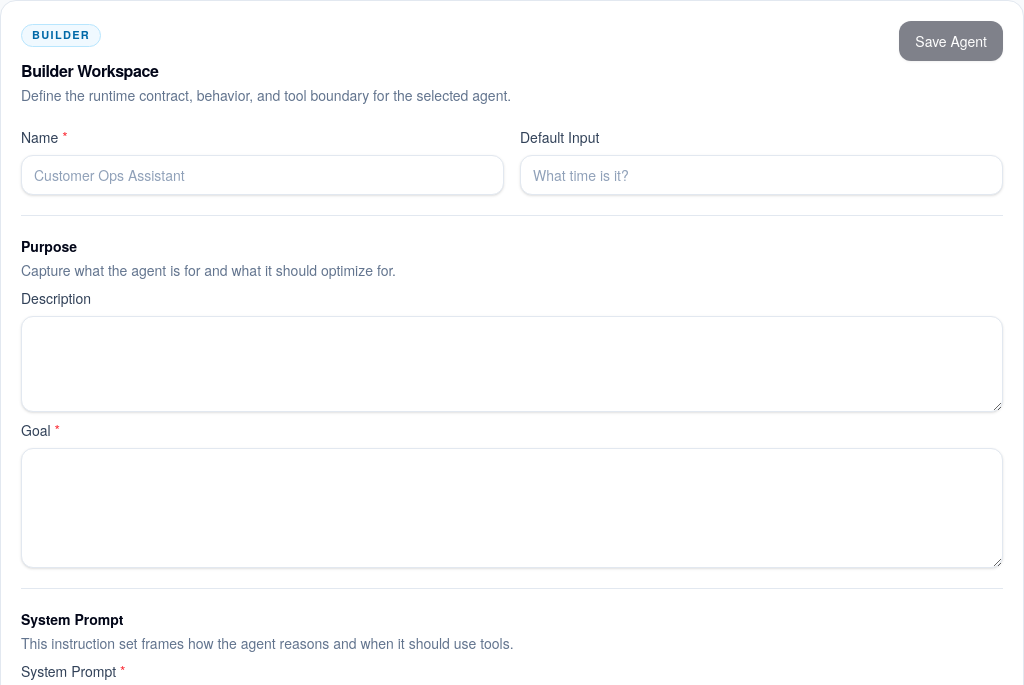
Test: shows required field error message after field is touched and left empty
Note: blur name 필드 — touched 상태가 되면서 에러 메시지 노출
Click the field labelled "Name *" at [262, 174], box [21, 154, 504, 194]
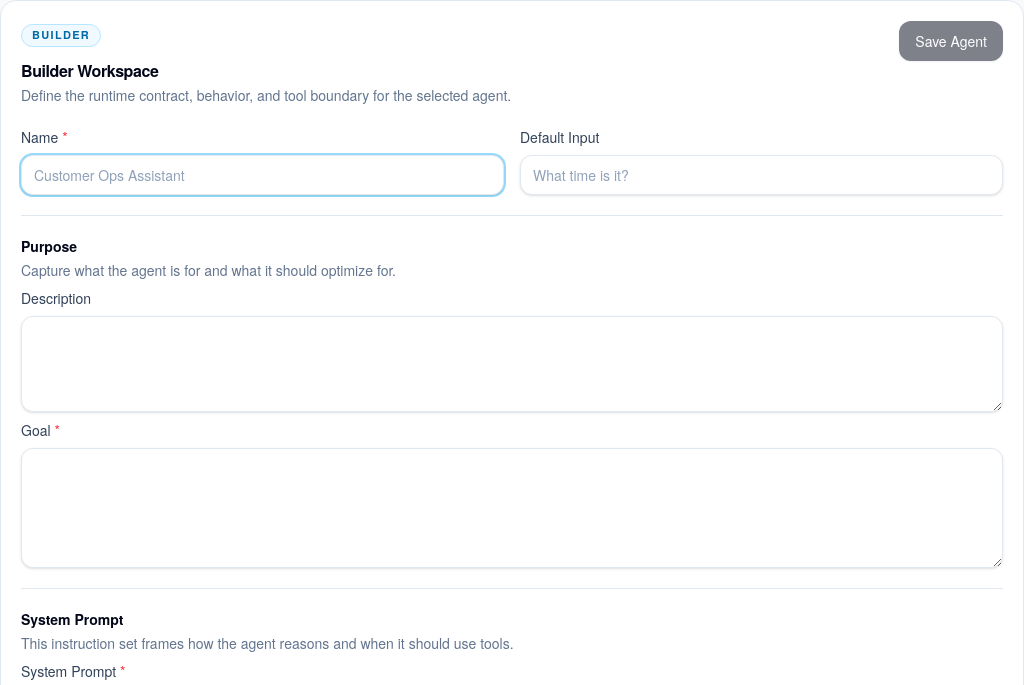
Press Tab
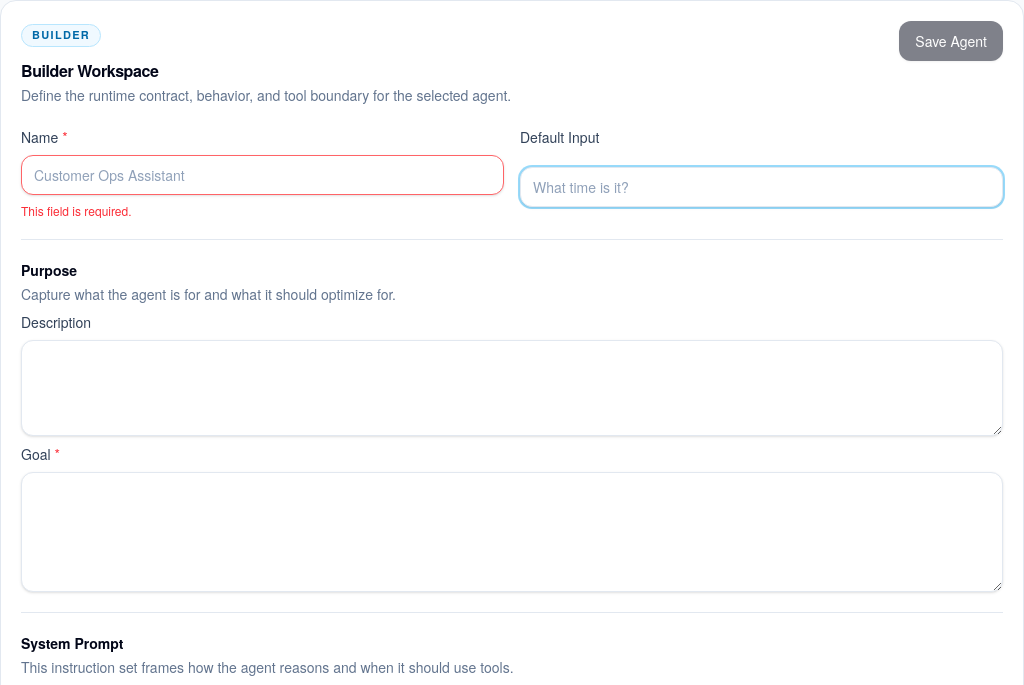
Expected: the text "This field is required." is shown, [21, 202, 132, 218]
